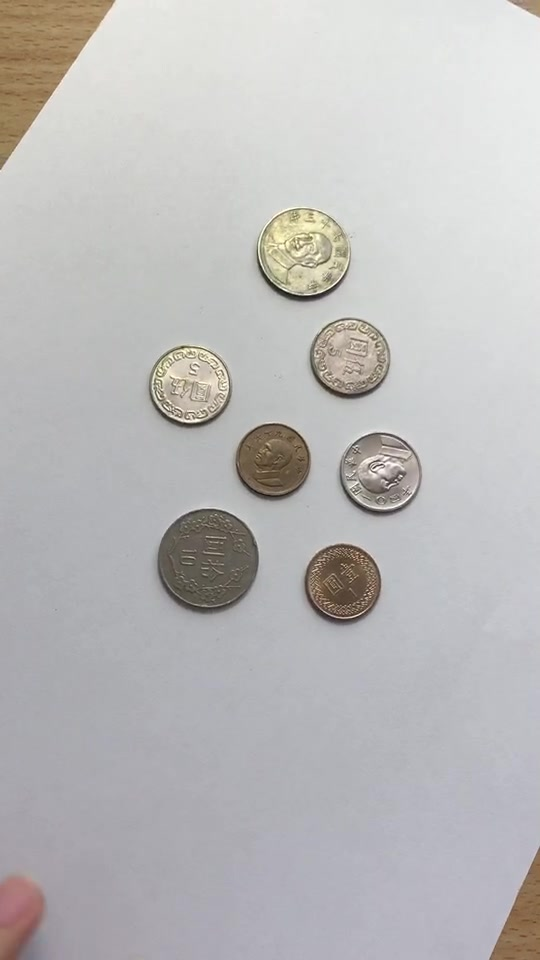1 dallar: (224, 412, 317, 504), (296, 535, 389, 627)
10 dallar: (234, 184, 370, 308), (130, 503, 266, 627)
5 dallar: (136, 331, 237, 438), (293, 306, 394, 413), (329, 421, 430, 528)
